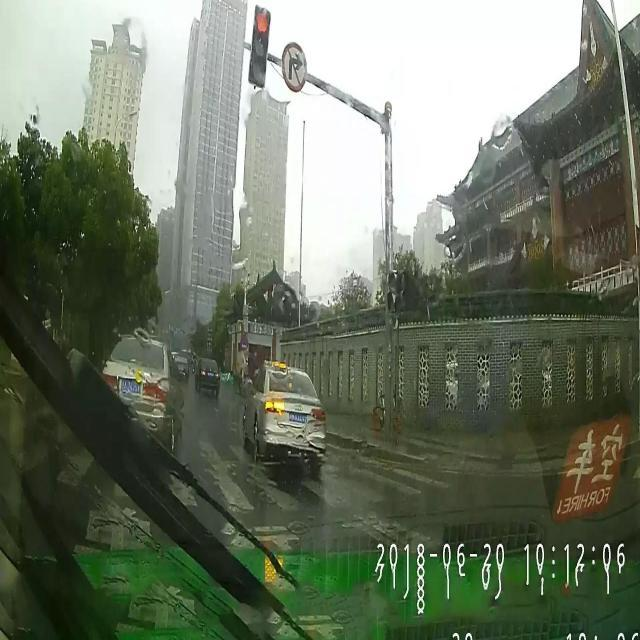car: (98, 335, 186, 443), (242, 364, 327, 462), (194, 357, 222, 395), (170, 354, 188, 381)
